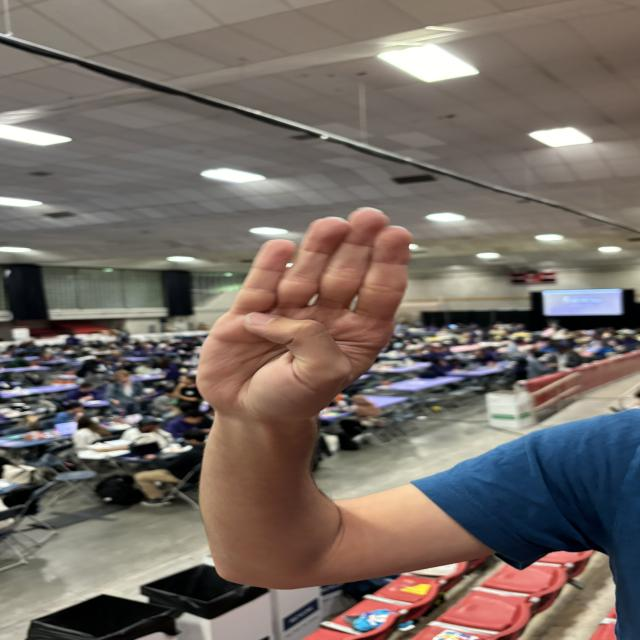B: (174, 204, 425, 424)
